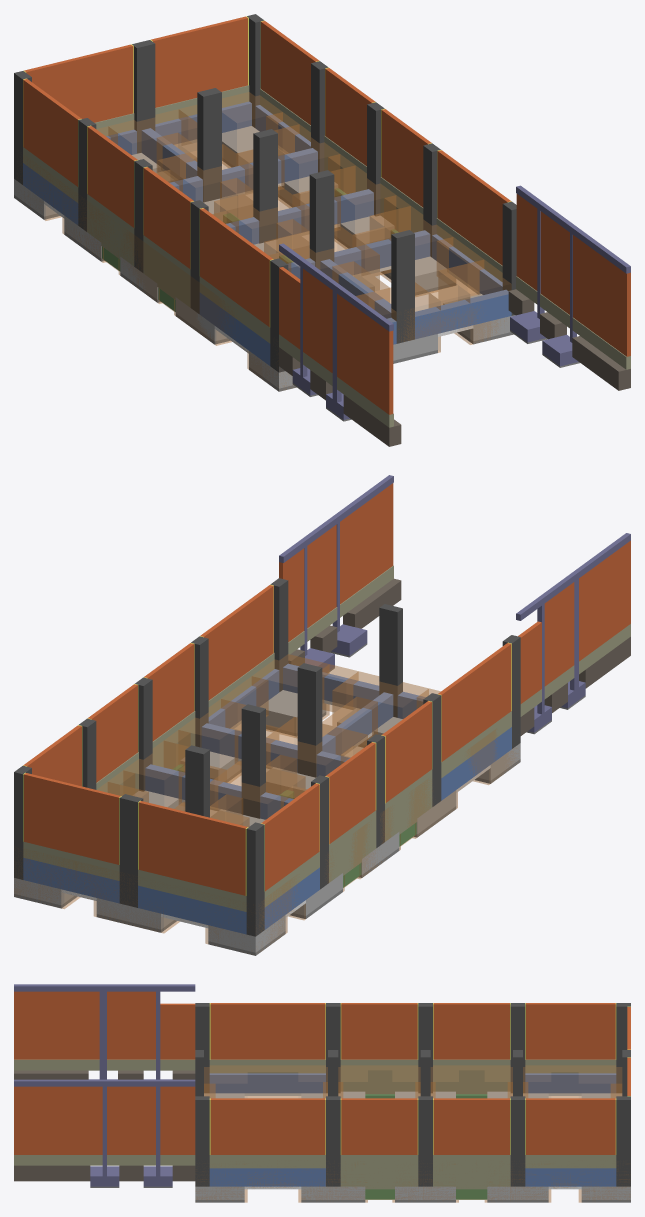
The model's file is etapa1_modelo.dae.
3 renders of one model, top to bottom at view 1: azimuth 30°, elevation 25°; view 2: azimuth 150°, elevation 25°; view 3: azimuth 270°, elevation 25°, orthographic. The views are drawn at different scales.
Visible parts, largest first — view 1: Muro eje A (×4), Muro eje C (×4), Muro eje 5 (×2), Muro cerco C (×3), Muro cerco A (×3), Pozo C2, Pozo B4, Pozo B2, Pozo B3, Pozo B5, Pozo C1, Pozo C4 (+69 smaller); view 2: Muro eje A (×4), Muro eje 5 (×2), Muro eje C (×4), Muro cerco C (×3), Muro cerco A (×3), Pozo B2, Pozo B1, Sobrecimiento eje 5 (×2), Pozo B3, Pozo C1, Pozo C2, C-4 B2 (+52 smaller); view 3: Muro eje A (×4), Muro eje C (×4), Muro cerco C (×3), Muro cerco A (×3), Sobrecimiento eje A sobre zapata (×4), Sobrecimiento eje A (×2), Sobrecimiento eje C sobre zapata (×4), Sobrecimiento eje C (×2), VE-2i (VE-2), Sobrecimiento eje A sobre VC (×2), VE-2k (VE-2), Sobrecimiento eje C sobre VC (×2) (+45 smaller).
Boxes of the visible parts, x1,y1,x2,y2 form: Muro eje A (×4): (23,79,273,326); Muro eje C (×4): (261,21,510,265); Muro eje 5 (×2): (24,16,247,122); Muro cerco C (×3): (516,194,630,356); Muro cerco A (×3): (279,267,393,414); Pozo C2: (369,206,452,296); Pozo B4: (157,144,253,213); Pozo B2: (264,224,379,290); Pozo B3: (214,185,309,251); Pozo B5: (109,109,197,172); Pozo C1: (438,259,511,344); Pozo C4: (274,124,339,207); Muro eje A (×4): (261,643,511,891); Muro eje 5 (×2): (24,773,247,895); Muro eje C (×4): (23,585,273,786); Muro cerco C (×3): (279,483,393,641); Muro cerco A (×3): (518,540,630,703); Pozo B2: (266,717,367,789); Pozo B1: (332,671,428,735); Sobrecimiento eje 5 (×2): (23,841,246,911); Pozo B3: (210,760,305,825); Pozo C1: (252,654,329,737); Pozo C2: (179,699,245,782); C-4 B2: (297,663,322,777); Muro eje A (×4): (210,1003,615,1059); Muro eje C (×4): (210,1098,615,1154); Muro cerco C (×3): (14,1086,195,1154); Muro cerco A (×3): (14,991,195,1059); Sobrecimiento eje A sobre zapata (×4): (340,1059,510,1091); Sobrecimiento eje A (×2): (209,1059,616,1073); Sobrecimiento eje C sobre zapata (×4): (340,1155,510,1186); Sobrecimiento eje C (×2): (209,1155,616,1168); VE-2i (VE-2): (209,1073,325,1093); Sobrecimiento eje A sobre VC (×2): (365,1059,487,1094); VE-2k (VE-2): (209,1168,325,1186); Sobrecimiento eje C sobre VC (×2): (365,1155,487,1189).
Size of the model in its own units: 7.9 by 21.24 by 4.6.
